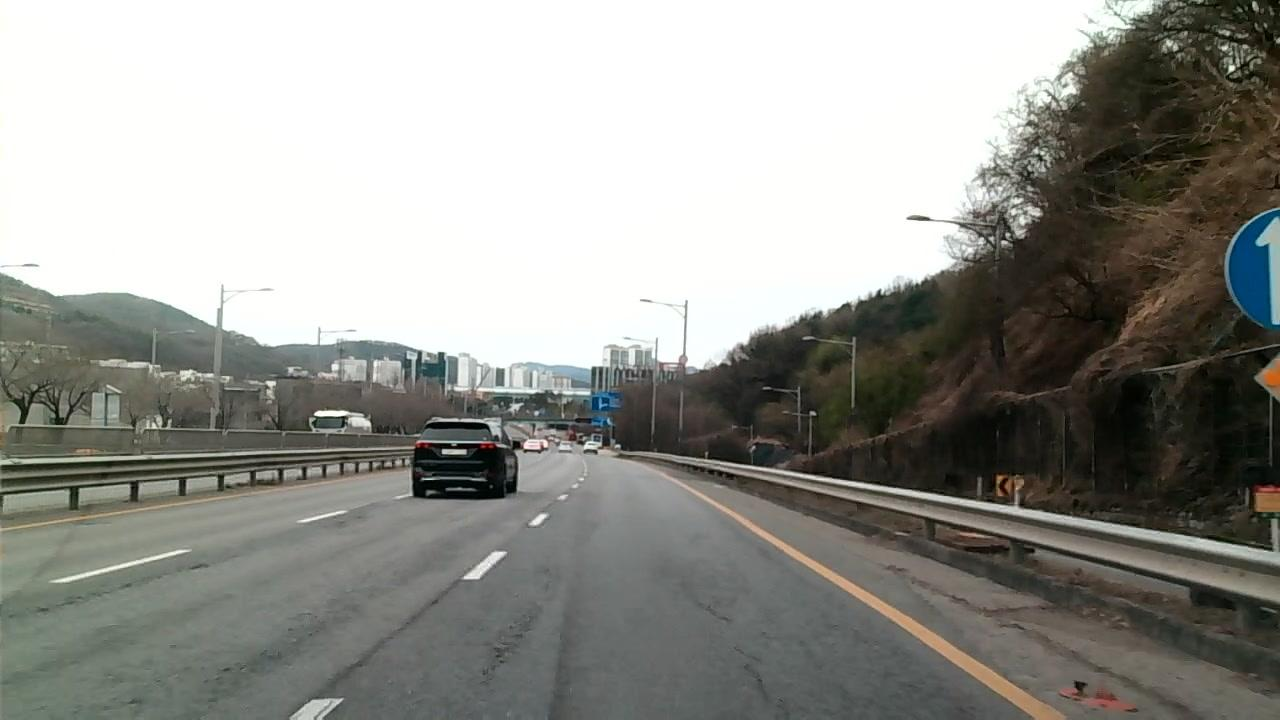erosion: (691, 592, 962, 720), (161, 605, 321, 720), (466, 566, 557, 701)
vcrack: (1, 560, 214, 621)
